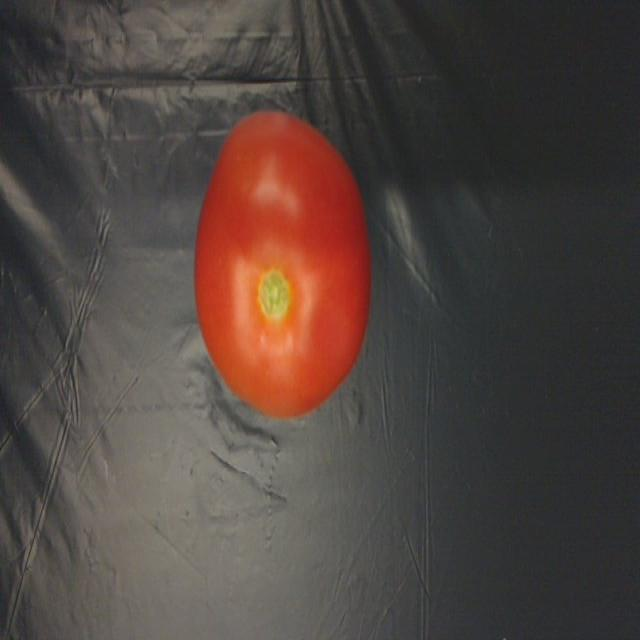kirmizi: (197, 105, 379, 421)
